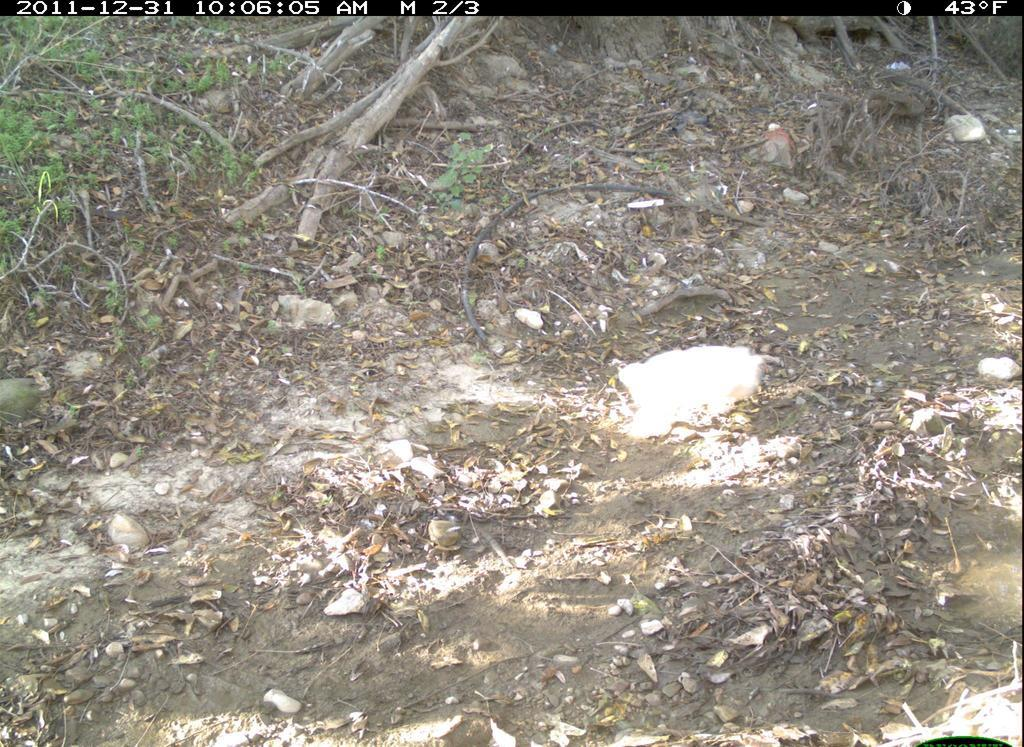dog: (606, 331, 780, 447)
